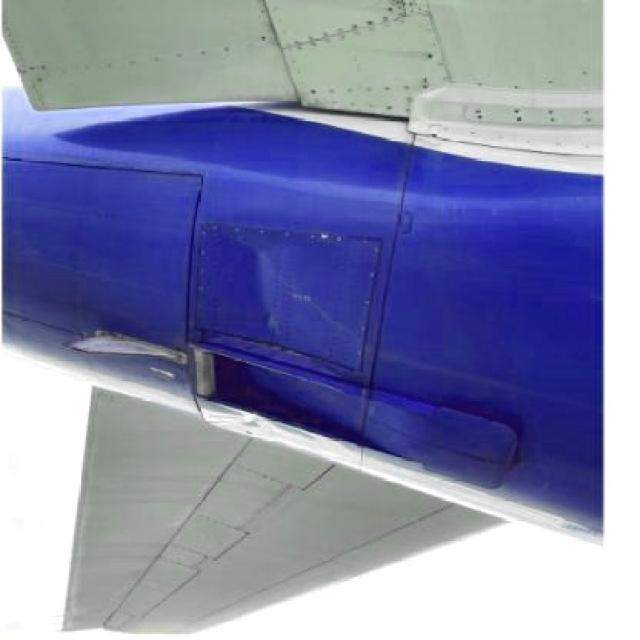dent: (216, 237, 309, 351)
